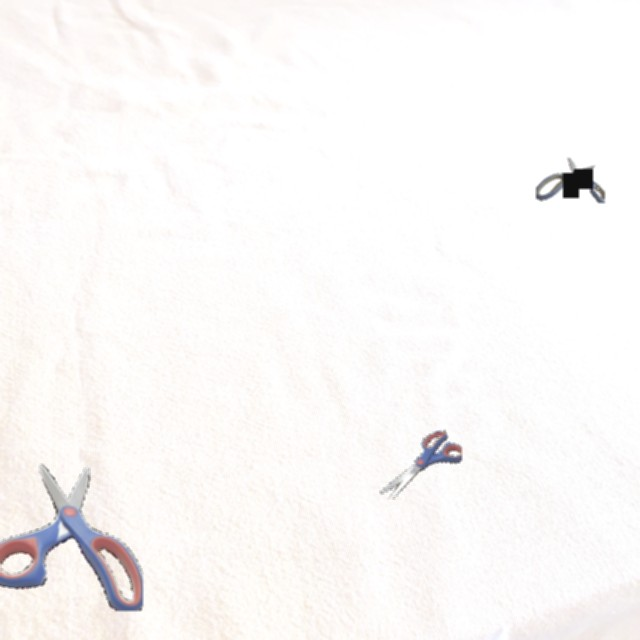scissors: (0, 464, 143, 611), (380, 430, 462, 499), (536, 158, 605, 203)
